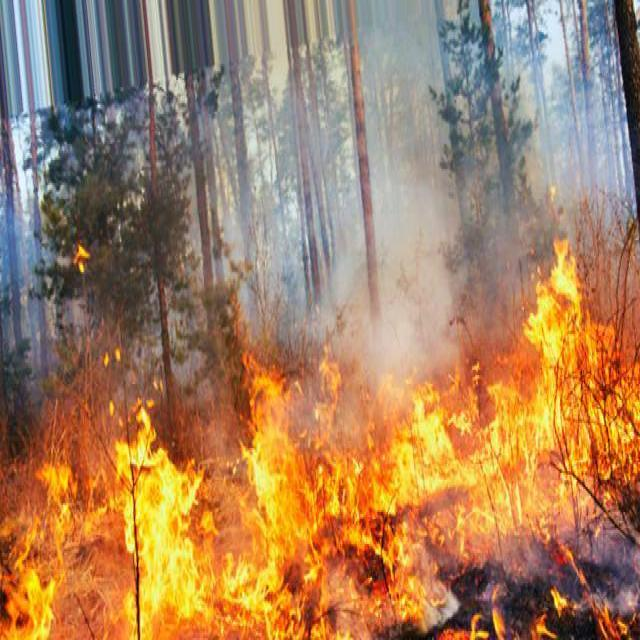fire: (36, 258, 629, 624)
